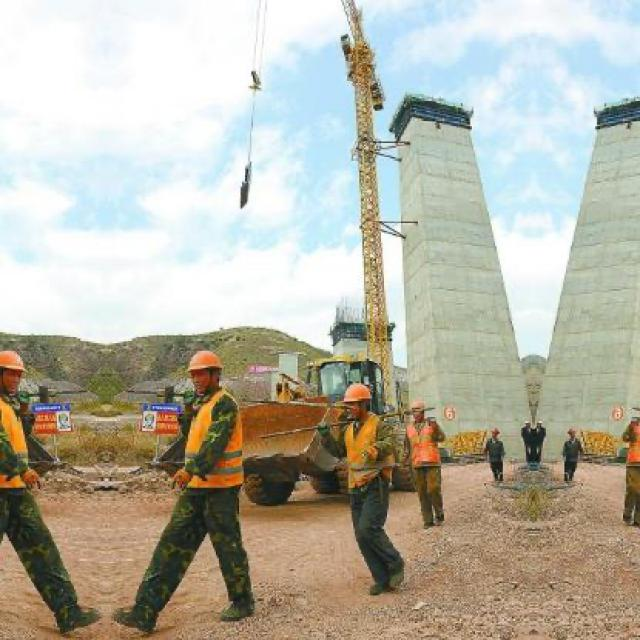helmet: (184, 345, 228, 392), (0, 343, 31, 392), (341, 378, 375, 422), (407, 392, 433, 423)
